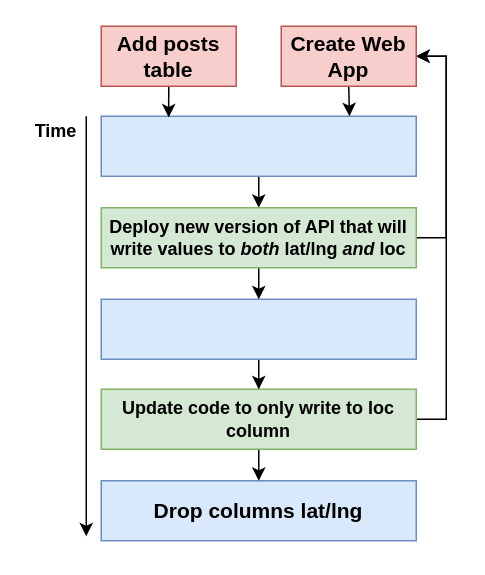
This 485x575 diagram has some shape labels left out. The box of each missing label's shape, as (x1, y1, x2, y2) in pixels:
Add column loc: (100, 115, 416, 176)
Copy lat/lng to loc: (100, 298, 416, 359)
